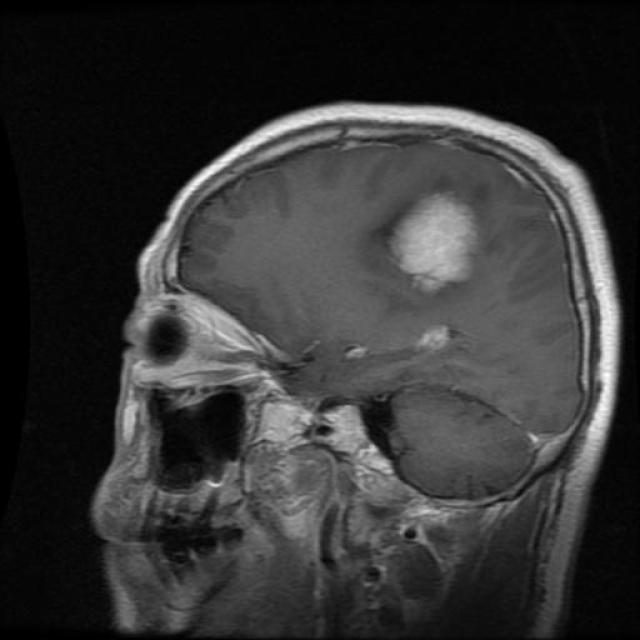meningioma: (391, 195, 472, 294)
